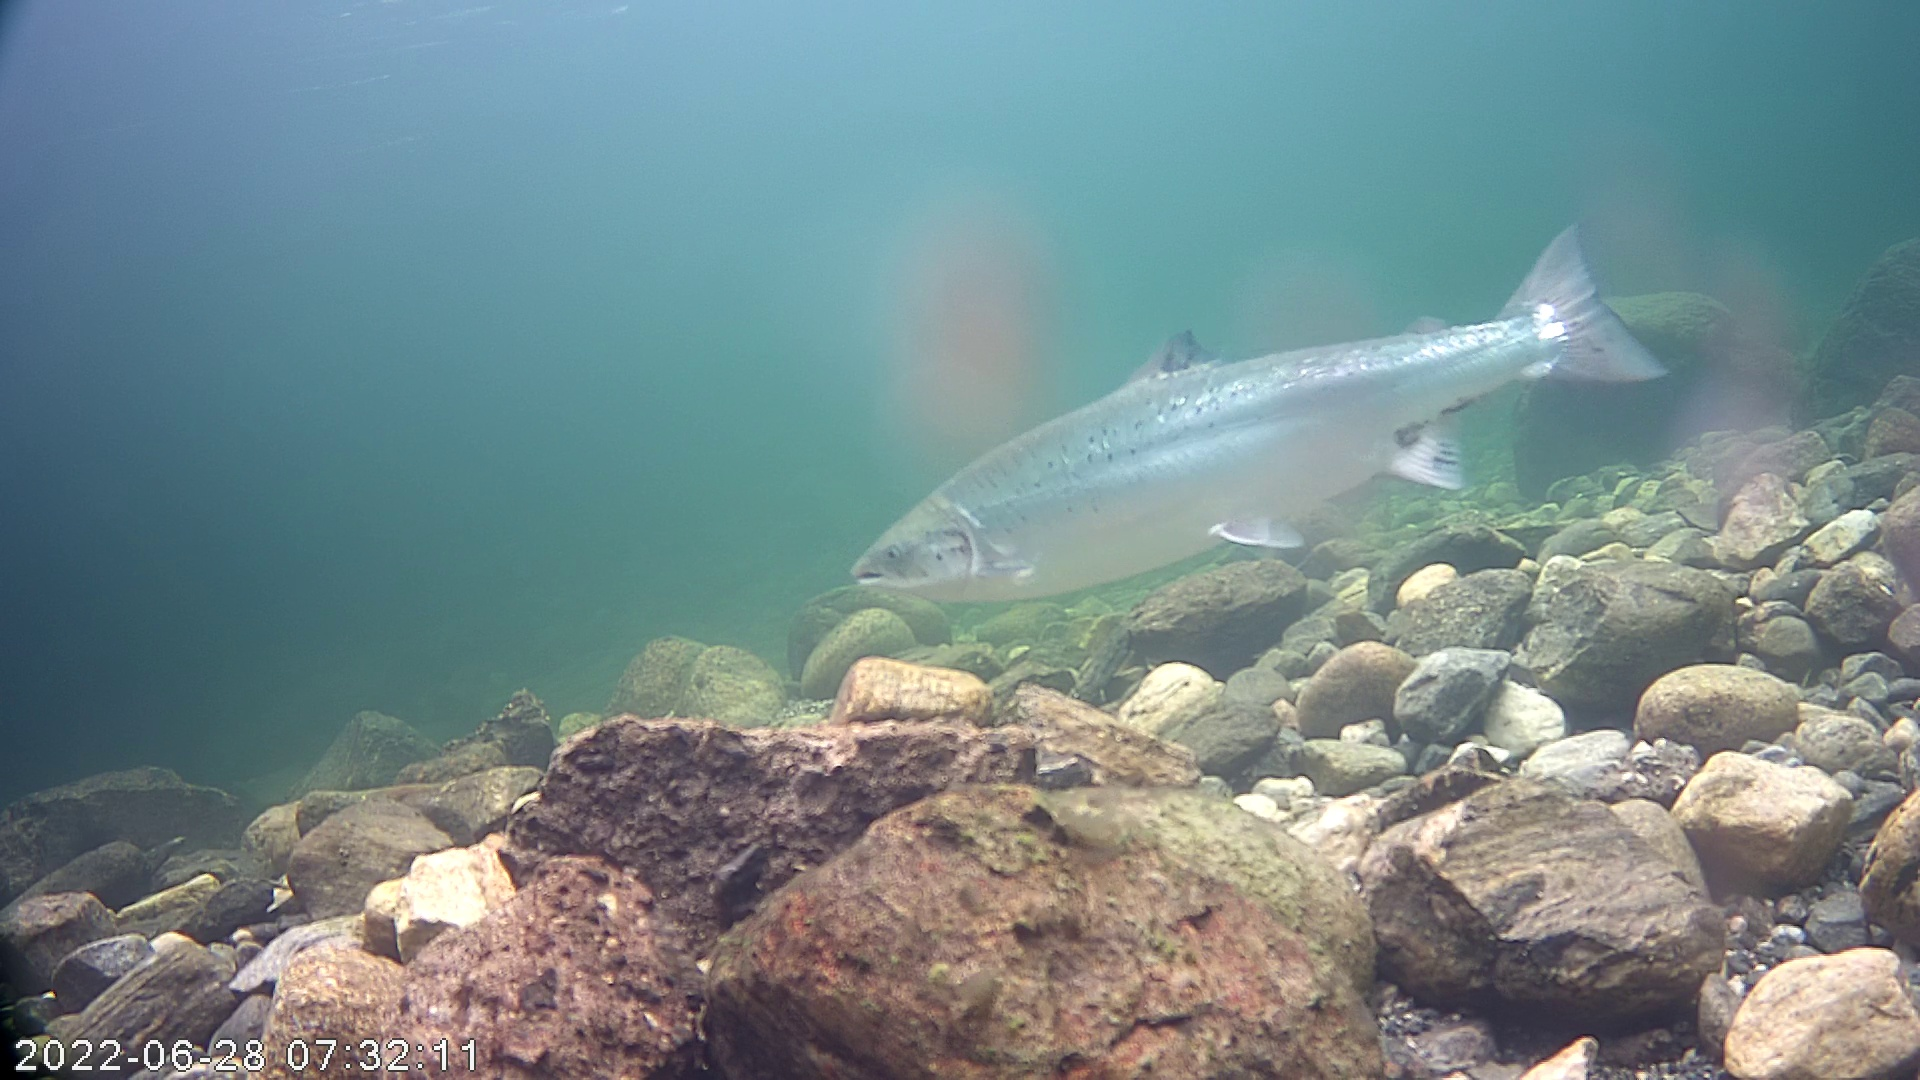salmon: (849, 202, 1698, 630)
